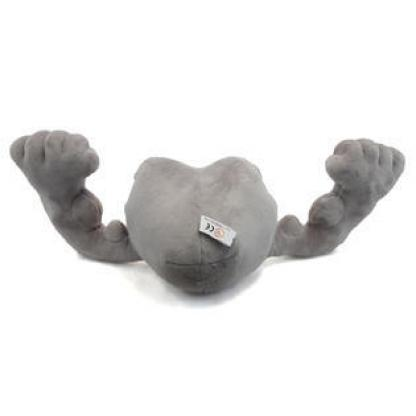Geodude: (1, 1, 416, 406)
